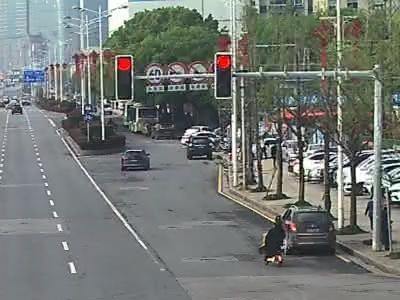red: (211, 51, 237, 72), (114, 54, 134, 72)
